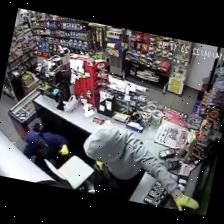person: (83, 127, 197, 210), (23, 130, 68, 166)
